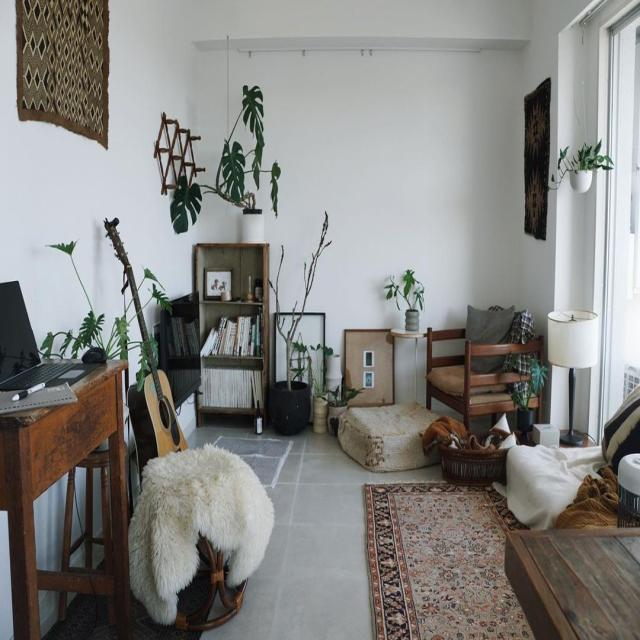vintage chair: (426, 301, 544, 440)
vintage shelf: (194, 239, 270, 431)
